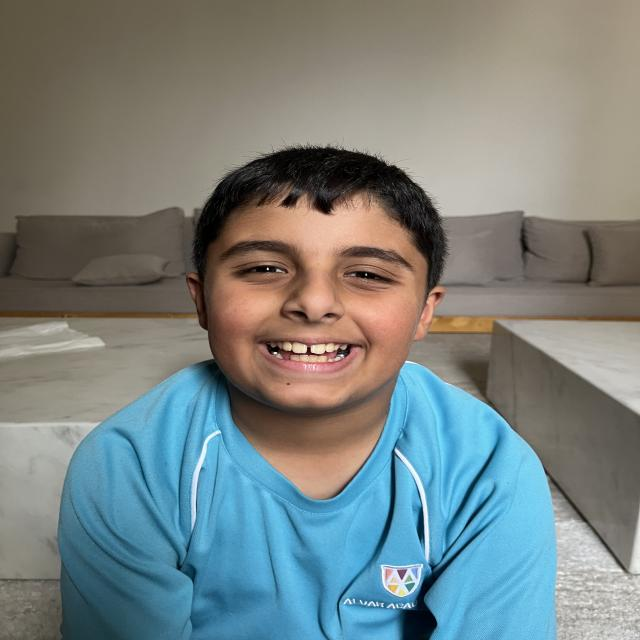happy: (203, 205, 420, 408)
